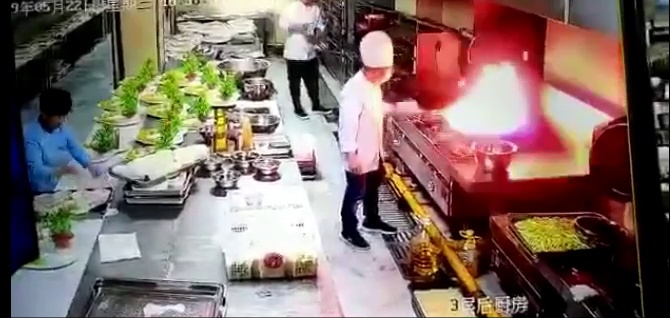fire: (454, 66, 535, 132)
